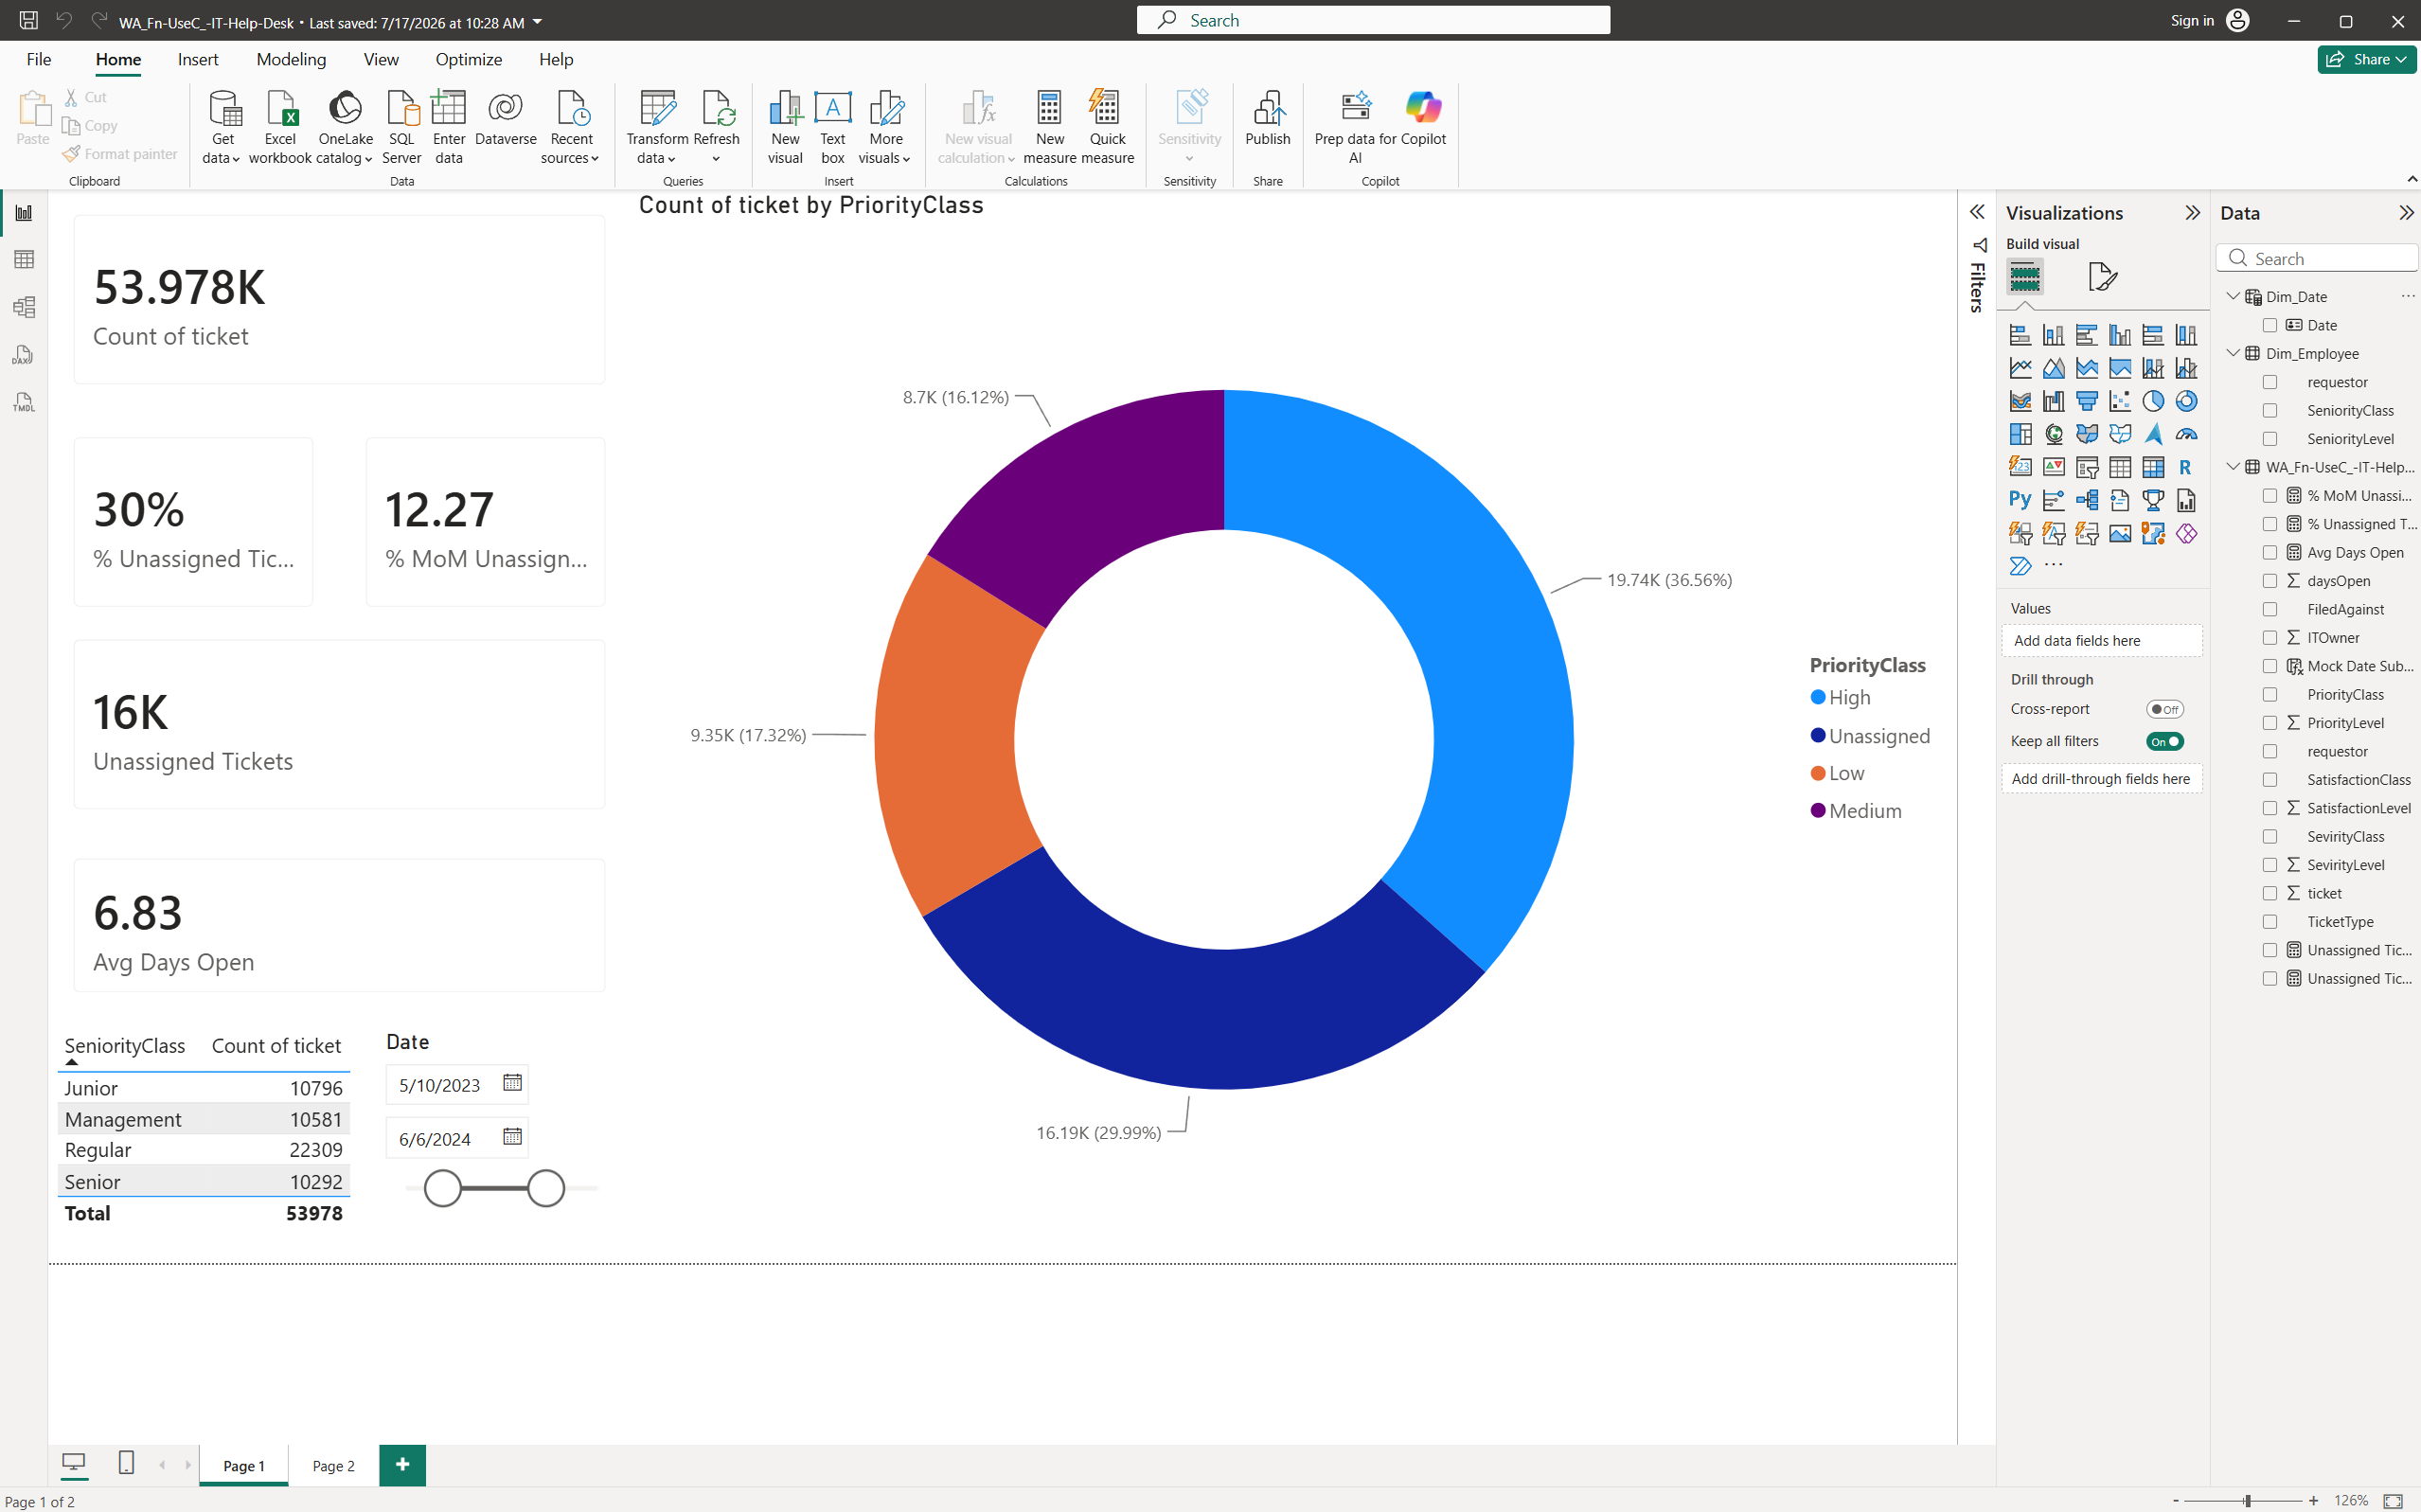

The dashboard page shown, as its layout file describes it:
{"tool":"powerbi","page":{"name":"Page 1","canvas":[1280,720],"ordinal":0},"visuals":[{"type":"donutChart","fields":{"Y":["CountNonNull(WA_Fn-UseC_-IT-Help-Desk.ticket)"],"Category":["WA_Fn-UseC_-IT-Help-Desk.PriorityLevel"]},"box":[391.4,0,888.9,719.4],"z":0},{"type":"cardVisual","fields":{"Data":["CountNonNull(WA_Fn-UseC_-IT-Help-Desk.ticket)"]},"box":[0,0,391.4,148.8],"z":1000},{"type":"tableEx","fields":{"Values":["Dim_Employee.SeniorityClass","CountNonNull(WA_Fn-UseC_-IT-Help-Desk.ticket)"]},"box":[0,558.1,213.6,161.2],"z":2000},{"type":"cardVisual","fields":{"Data":["WA_Fn-UseC_-IT-Help-Desk.Unassigned Tickets"]},"box":[0,285.3,391.4,148.8],"z":3000},{"type":"cardVisual","fields":{"Data":["WA_Fn-UseC_-IT-Help-Desk.% Unassigned Tickets"]},"box":[0,148.8,195.7,148.8],"z":4000},{"type":"cardVisual","fields":{"Data":["WA_Fn-UseC_-IT-Help-Desk.% MoM Unassigned Change"]},"box":[195.7,148.8,195.7,148.8],"z":5000},{"type":"slicer","fields":{"Values":["Dim_Date.Date"]},"box":[213.6,558.1,177.8,161.2],"z":6000},{"type":"cardVisual","fields":{"Data":["WA_Fn-UseC_-IT-Help-Desk.Avg Days Open"]},"box":[0,431.4,391.4,124],"z":7000}]}

Visuals, with their boxes on the page's 1280x720 design canvas (x1, y1, x2, y2). These are canvas units, not pixel positions in the 2421x1512 screenshot, which may show the page scaled, cropped or inside an application window:
donutChart - CountNonNull(WA_Fn-UseC_-IT-Help-Desk.ticket) x WA_Fn-UseC_-IT-Help-Desk.PriorityLevel: BBox(391, 0, 1280, 719)
cardVisual - CountNonNull(WA_Fn-UseC_-IT-Help-Desk.ticket): BBox(0, 0, 391, 149)
tableEx - Dim_Employee.SeniorityClass x CountNonNull(WA_Fn-UseC_-IT-Help-Desk.ticket): BBox(0, 558, 214, 719)
cardVisual - WA_Fn-UseC_-IT-Help-Desk.Unassigned Tickets: BBox(0, 285, 391, 434)
cardVisual - WA_Fn-UseC_-IT-Help-Desk.% Unassigned Tickets: BBox(0, 149, 196, 298)
cardVisual - WA_Fn-UseC_-IT-Help-Desk.% MoM Unassigned Change: BBox(196, 149, 391, 298)
slicer - Dim_Date.Date: BBox(214, 558, 391, 719)
cardVisual - WA_Fn-UseC_-IT-Help-Desk.Avg Days Open: BBox(0, 431, 391, 555)
